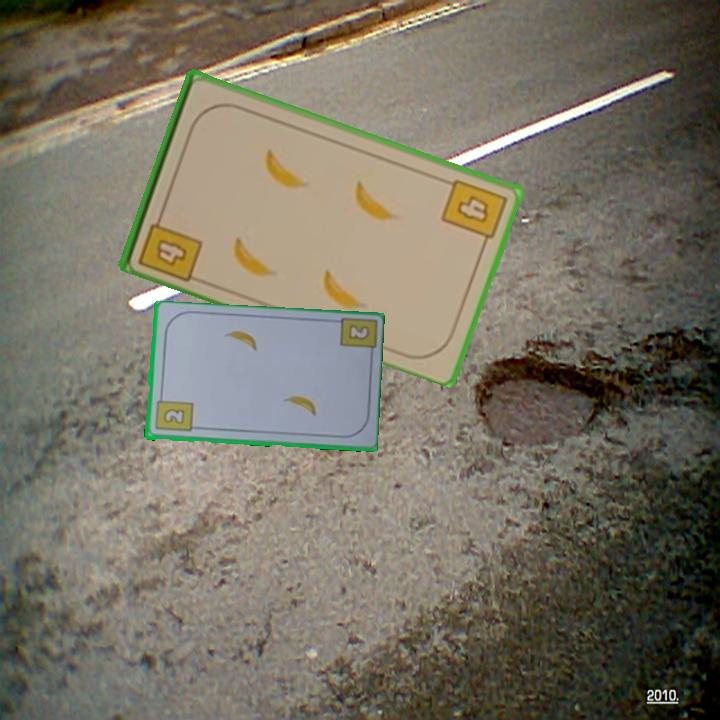2b: (151, 391, 195, 435), (347, 323, 370, 342)
4b: (437, 175, 510, 251), (135, 206, 205, 284)
